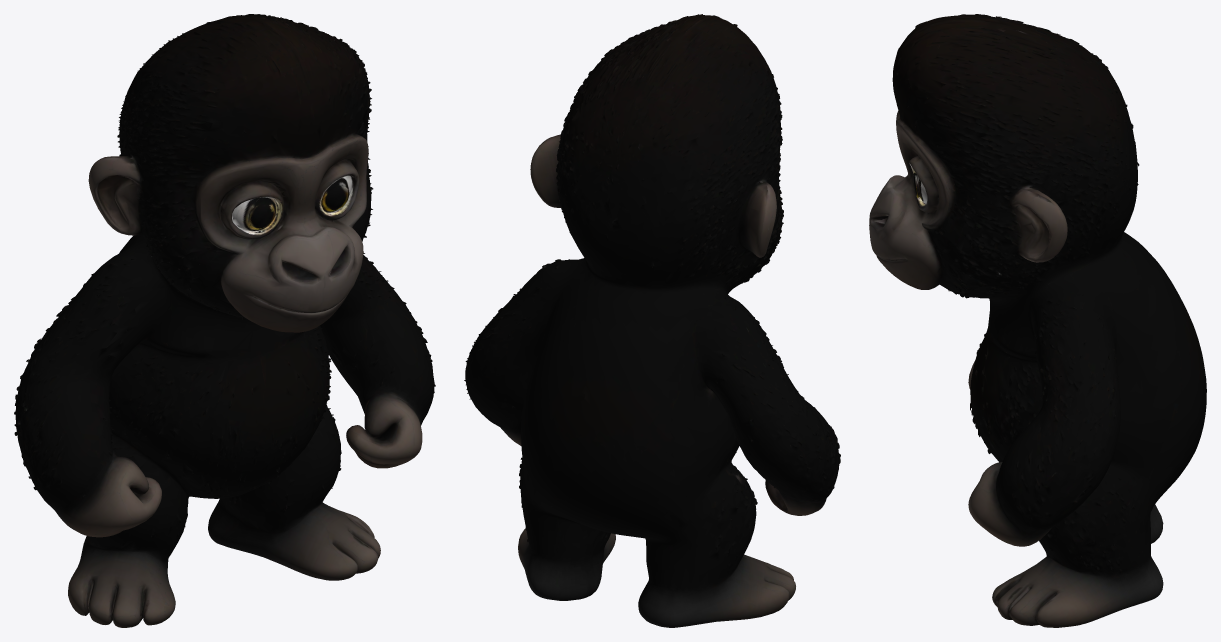
The model's file is gorila.glb.
The picture shows the model from 3 angles, left to right: view 1: azimuth 30°, elevation 25°; view 2: azimuth 150°, elevation 25°; view 3: azimuth 270°, elevation 25°; orthographic projection. The views are drawn at different scales.
Parts seen in each view (by area): view 1: texture_pbr_v128; view 2: texture_pbr_v128; view 3: texture_pbr_v128.
Part boxes in pixels (x1,y1,x2,y2): texture_pbr_v128: (14,14,435,627); texture_pbr_v128: (464,14,840,627); texture_pbr_v128: (869,14,1206,627).
Size of the model in its own units: 0.7634 by 1.08 by 0.6012.
1 material, 1 textured.
